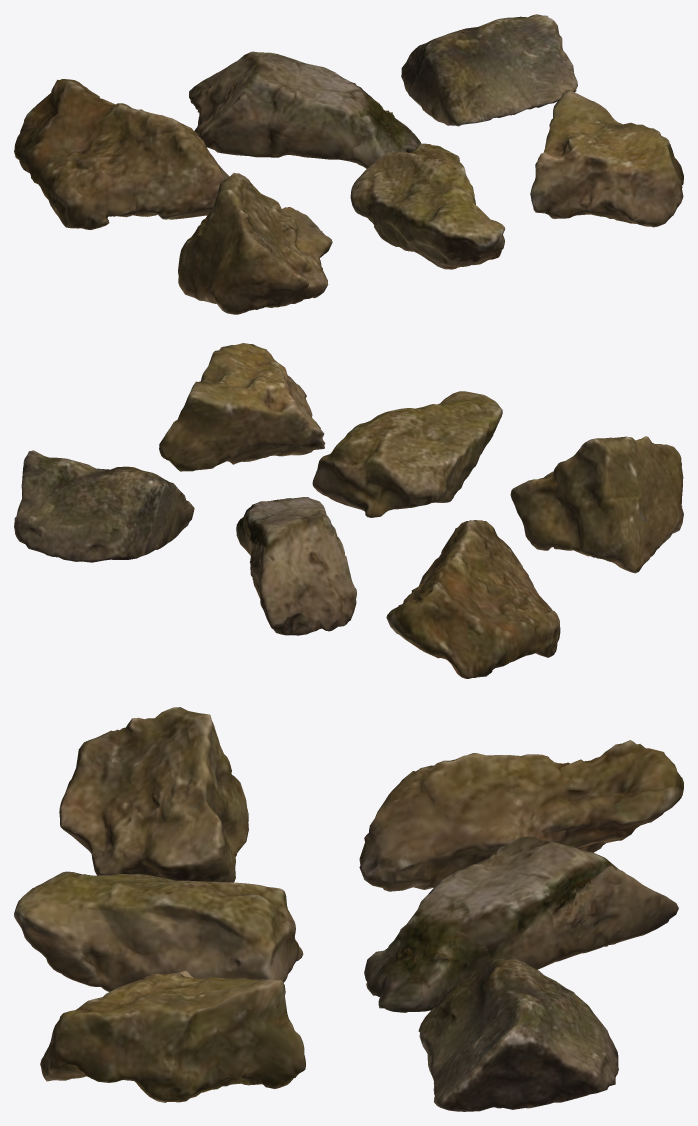
File: rock_moss_set_01_wood.glb
The picture shows the model from 3 angles, top to bottom: view 1: azimuth 30°, elevation 25°; view 2: azimuth 150°, elevation 25°; view 3: azimuth 270°, elevation 25°; orthographic projection. The views are drawn at different scales.
Parts seen in each view (by area): view 1: rock_moss_set_01_rock01, rock_moss_set_01_rock02, rock_moss_set_01_rock06, rock_moss_set_01_rock04, rock_moss_set_01_rock03, rock_moss_set_01_rock05; view 2: rock_moss_set_01_rock04, rock_moss_set_01_rock01, rock_moss_set_01_rock05, rock_moss_set_01_rock03, rock_moss_set_01_rock06, rock_moss_set_01_rock02; view 3: rock_moss_set_01_rock01, rock_moss_set_01_rock02, rock_moss_set_01_rock05, rock_moss_set_01_rock06, rock_moss_set_01_rock04, rock_moss_set_01_rock03.
Boxes of the visible parts, x1=… form: rock_moss_set_01_rock01: x1=14, y1=79, x2=229, y2=229; rock_moss_set_01_rock02: x1=189, y1=51, x2=421, y2=168; rock_moss_set_01_rock06: x1=530, y1=89, x2=683, y2=227; rock_moss_set_01_rock04: x1=178, y1=173, x2=332, y2=314; rock_moss_set_01_rock03: x1=401, y1=14, x2=577, y2=126; rock_moss_set_01_rock05: x1=350, y1=143, x2=505, y2=269; rock_moss_set_01_rock04: x1=510, y1=436, x2=683, y2=573; rock_moss_set_01_rock01: x1=386, y1=520, x2=560, y2=678; rock_moss_set_01_rock05: x1=312, y1=391, x2=502, y2=517; rock_moss_set_01_rock03: x1=14, y1=450, x2=194, y2=562; rock_moss_set_01_rock06: x1=159, y1=343, x2=325, y2=471; rock_moss_set_01_rock02: x1=236, y1=497, x2=356, y2=635; rock_moss_set_01_rock01: x1=359, y1=740, x2=683, y2=891; rock_moss_set_01_rock02: x1=364, y1=836, x2=678, y2=1012; rock_moss_set_01_rock05: x1=14, y1=871, x2=303, y2=991; rock_moss_set_01_rock06: x1=40, y1=970, x2=305, y2=1102; rock_moss_set_01_rock04: x1=59, y1=707, x2=248, y2=882; rock_moss_set_01_rock03: x1=418, y1=956, x2=618, y2=1111.
Bounding box in the file's own units: 8 × 1.77 × 6.94.
1 material, 1 textured.
